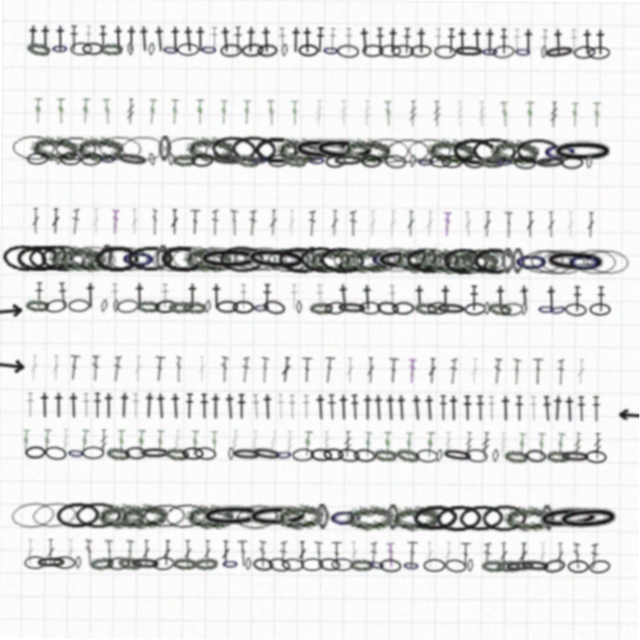chain: (537, 501, 603, 532), (243, 245, 309, 275), (557, 502, 623, 532), (542, 246, 608, 274), (290, 136, 355, 164), (311, 136, 376, 164), (201, 503, 266, 531), (247, 503, 312, 531), (549, 137, 614, 163), (196, 247, 261, 273), (373, 247, 438, 273), (416, 244, 466, 275), (276, 501, 326, 532), (119, 502, 169, 532), (346, 502, 396, 532), (391, 502, 441, 532), (1, 245, 48, 275), (528, 245, 575, 275), (11, 502, 58, 532), (32, 502, 79, 532), (235, 502, 281, 532), (29, 136, 78, 164), (425, 136, 474, 164), (489, 136, 538, 164), (57, 246, 106, 274), (427, 246, 476, 274), (98, 503, 147, 531), (242, 245, 288, 274), (299, 245, 345, 274), (164, 502, 209, 531), (185, 136, 233, 163), (183, 246, 231, 273), (341, 246, 389, 273), (393, 246, 441, 273), (505, 503, 553, 530), (210, 136, 256, 164), (40, 246, 86, 274), (70, 246, 116, 274), (193, 246, 239, 274), (231, 246, 277, 274), (319, 246, 365, 274), (405, 246, 451, 274), (442, 246, 488, 274), (584, 246, 630, 274), (437, 503, 483, 531), (96, 136, 141, 164), (451, 136, 496, 164), (105, 246, 150, 274), (150, 246, 195, 274), (277, 246, 322, 274), (331, 246, 376, 274), (520, 246, 565, 274), (57, 503, 102, 531), (143, 503, 188, 531), (414, 503, 459, 531), (460, 503, 505, 531), (74, 137, 122, 163), (275, 137, 323, 163), (341, 137, 389, 163), (48, 247, 96, 273), (307, 247, 355, 273), (450, 247, 498, 273), (187, 504, 235, 530), (230, 136, 276, 163), (471, 136, 516, 163), (171, 246, 216, 273), (219, 246, 264, 273), (373, 246, 418, 273), (460, 246, 505, 273), (571, 246, 616, 273), (483, 503, 528, 530), (10, 136, 54, 163), (160, 246, 204, 273), (354, 246, 398, 273), (119, 137, 164, 163), (363, 137, 408, 163), (384, 137, 429, 163), (127, 247, 172, 273), (540, 247, 585, 273), (77, 504, 122, 530), (473, 246, 516, 273), (52, 137, 96, 163), (163, 137, 207, 163), (253, 137, 297, 163), (406, 137, 450, 163), (515, 137, 559, 163), (16, 247, 60, 273), (28, 247, 72, 273), (94, 247, 138, 273), (265, 247, 309, 273), (368, 245, 406, 274), (329, 503, 366, 531), (541, 137, 577, 163), (120, 247, 156, 273), (513, 247, 549, 273), (566, 247, 602, 273), (541, 42, 574, 59), (251, 446, 284, 463), (442, 446, 475, 463), (115, 153, 148, 169), (210, 153, 242, 168), (521, 557, 553, 572), (533, 154, 565, 168), (336, 301, 368, 315), (435, 301, 467, 315), (232, 448, 264, 462), (560, 448, 592, 462), (131, 558, 163, 572), (506, 558, 538, 572), (396, 446, 421, 463), (451, 44, 483, 57), (331, 154, 363, 167), (140, 448, 172, 461), (37, 558, 69, 571), (262, 299, 286, 316), (544, 556, 568, 573), (98, 246, 113, 273), (154, 246, 169, 273), (542, 503, 557, 530), (24, 43, 49, 59), (91, 557, 116, 573), (44, 300, 68, 316), (269, 557, 293, 573), (281, 153, 306, 168), (487, 300, 512, 315), (119, 557, 144, 572), (195, 557, 220, 572), (45, 447, 68, 463), (338, 447, 361, 463), (446, 557, 469, 573), (317, 504, 331, 530), (239, 43, 262, 58), (490, 43, 513, 58), (571, 43, 594, 58), (25, 153, 48, 168), (116, 300, 139, 315), (154, 300, 177, 315), (376, 300, 399, 315), (195, 447, 218, 462), (466, 447, 489, 462), (154, 557, 177, 572), (320, 557, 343, 572), (590, 557, 613, 572), (157, 137, 170, 163), (305, 247, 318, 273), (501, 247, 514, 273), (511, 247, 524, 273), (388, 504, 401, 530), (171, 154, 195, 168), (234, 154, 258, 168), (168, 301, 192, 315), (182, 301, 206, 315), (309, 301, 333, 315), (107, 448, 131, 462), (166, 448, 190, 462), (505, 448, 529, 462), (526, 447, 548, 462), (79, 154, 102, 168), (266, 154, 289, 168), (383, 154, 406, 168), (512, 154, 535, 168), (324, 301, 347, 315), (564, 301, 587, 315), (354, 448, 377, 462), (548, 300, 568, 316), (97, 44, 121, 57), (478, 154, 502, 167), (25, 301, 49, 314), (136, 301, 160, 314), (414, 301, 438, 314), (374, 448, 398, 461), (547, 448, 571, 461), (174, 558, 198, 571), (351, 558, 375, 571), (483, 558, 507, 571), (498, 558, 522, 571), (218, 44, 240, 58), (335, 44, 357, 58), (432, 44, 454, 58), (586, 44, 608, 58), (190, 154, 212, 168), (462, 154, 484, 168), (560, 154, 582, 168), (464, 301, 486, 315), (501, 301, 523, 315), (293, 448, 315, 462), (311, 448, 333, 462), (417, 448, 439, 462), (586, 448, 608, 462), (109, 558, 131, 572), (254, 558, 276, 572), (284, 558, 306, 572), (381, 558, 403, 572), (255, 44, 276, 58), (324, 154, 345, 168), (68, 44, 90, 57), (80, 44, 102, 57), (175, 44, 197, 57), (360, 44, 382, 57), (377, 44, 399, 57), (390, 44, 412, 57), (408, 44, 430, 57), (58, 154, 80, 167), (428, 154, 450, 167), (440, 154, 462, 167), (68, 301, 90, 314), (216, 301, 238, 314), (232, 301, 254, 314), (359, 301, 381, 314), (392, 301, 414, 314), (427, 301, 449, 314), (589, 301, 611, 314), (83, 448, 105, 461), (126, 448, 148, 461), (183, 448, 205, 461), (26, 558, 48, 571), (55, 558, 77, 571), (303, 558, 325, 571), (333, 558, 355, 571), (425, 558, 447, 571), (569, 558, 591, 571), (249, 153, 268, 168), (369, 557, 388, 572), (296, 44, 317, 57), (360, 154, 381, 167), (26, 448, 47, 461), (324, 448, 345, 461), (252, 301, 271, 315), (160, 44, 178, 58), (416, 154, 434, 168), (68, 448, 86, 462), (276, 448, 294, 462), (404, 558, 422, 572), (49, 44, 67, 57), (198, 44, 216, 57), (320, 44, 338, 57), (479, 44, 497, 57), (512, 44, 530, 57), (98, 154, 116, 167), (307, 154, 325, 167), (494, 154, 512, 167), (537, 301, 555, 314), (223, 558, 241, 571), (436, 448, 444, 462), (147, 154, 155, 167), (100, 301, 108, 314), (125, 44, 132, 57), (146, 44, 153, 57), (279, 44, 286, 57), (408, 154, 415, 167), (204, 301, 211, 314), (493, 448, 500, 461), (539, 44, 545, 57), (54, 154, 60, 167), (167, 154, 173, 167), (585, 154, 591, 167), (113, 301, 119, 314), (296, 301, 302, 314), (484, 301, 490, 314), (521, 301, 527, 314), (229, 448, 235, 461), (77, 558, 83, 571), (247, 558, 253, 571), (469, 558, 475, 571)
double: (68, 356, 81, 383), (323, 357, 336, 383), (154, 357, 166, 383), (388, 357, 400, 383), (239, 541, 251, 567), (408, 541, 420, 567), (189, 210, 200, 236), (281, 357, 292, 383), (302, 357, 313, 383), (533, 357, 544, 383), (333, 541, 344, 567), (462, 541, 473, 567), (387, 210, 397, 236), (424, 210, 434, 236), (260, 357, 270, 383), (470, 357, 480, 383), (493, 357, 503, 383), (512, 357, 522, 383), (126, 541, 136, 567), (520, 541, 530, 567), (110, 210, 119, 236), (229, 210, 238, 236), (268, 210, 277, 236), (442, 210, 451, 236), (463, 210, 472, 236), (482, 210, 491, 236), (503, 210, 512, 236), (525, 210, 534, 236), (546, 210, 555, 236), (30, 357, 39, 383), (113, 357, 122, 383), (134, 357, 143, 383), (220, 357, 229, 383), (346, 357, 355, 383), (408, 357, 417, 383), (428, 357, 437, 383), (577, 357, 586, 383), (48, 541, 57, 567), (106, 541, 115, 567), (164, 541, 173, 567), (185, 541, 194, 567), (223, 541, 232, 567), (316, 541, 325, 567), (351, 541, 360, 567), (388, 541, 397, 567), (427, 541, 436, 567), (445, 541, 454, 567), (501, 541, 510, 567), (31, 210, 39, 236), (51, 210, 59, 236), (71, 210, 79, 236), (91, 210, 99, 236), (130, 210, 138, 236), (170, 210, 178, 236), (248, 210, 256, 236), (287, 210, 295, 236), (330, 210, 338, 236), (368, 210, 376, 236), (406, 210, 414, 236), (566, 210, 574, 236), (586, 210, 594, 236), (52, 357, 60, 383), (92, 357, 100, 383), (198, 357, 206, 383), (242, 357, 250, 383), (367, 357, 375, 383), (450, 357, 458, 383), (28, 541, 36, 567), (68, 541, 76, 567), (144, 541, 152, 567), (205, 541, 213, 567), (260, 541, 268, 567), (281, 541, 289, 567), (300, 541, 308, 567), (485, 541, 493, 567), (540, 541, 548, 567), (558, 541, 566, 567), (592, 541, 600, 567), (211, 210, 218, 236), (308, 210, 315, 236), (349, 210, 356, 236), (558, 357, 565, 383), (87, 541, 94, 567), (372, 541, 379, 567), (575, 541, 582, 567), (151, 210, 157, 236), (176, 357, 182, 383)
half_double: (550, 393, 567, 420), (336, 283, 352, 310), (517, 283, 533, 310), (117, 393, 133, 420), (142, 393, 158, 420), (23, 27, 39, 53), (150, 27, 166, 53), (179, 27, 195, 53), (216, 27, 232, 53), (241, 27, 257, 53), (286, 27, 302, 53), (355, 27, 371, 53), (383, 27, 399, 53), (480, 27, 496, 53), (154, 394, 170, 420), (223, 394, 239, 420), (410, 394, 426, 420), (36, 27, 51, 53), (51, 27, 66, 53), (109, 27, 124, 53), (122, 27, 137, 53), (135, 27, 150, 53), (166, 27, 181, 53), (191, 27, 206, 53), (257, 27, 272, 53), (298, 27, 313, 53), (412, 27, 427, 53), (453, 27, 468, 53), (468, 27, 483, 53), (519, 27, 534, 53), (549, 27, 564, 53), (578, 27, 593, 53), (591, 27, 606, 53), (83, 284, 98, 310), (132, 284, 147, 310), (185, 284, 200, 310), (209, 284, 224, 310), (360, 284, 375, 310), (412, 284, 427, 310), (438, 284, 453, 310), (493, 284, 508, 310), (544, 284, 559, 310), (38, 394, 53, 420), (52, 394, 67, 420), (67, 394, 82, 420), (102, 394, 117, 420), (169, 394, 184, 420), (209, 394, 224, 420), (261, 394, 276, 420), (314, 394, 329, 420), (337, 394, 352, 420), (361, 394, 376, 420), (372, 394, 387, 420), (384, 394, 399, 420), (395, 394, 410, 420), (423, 394, 438, 420), (447, 394, 462, 420), (499, 394, 514, 420), (563, 394, 578, 420), (57, 284, 69, 310), (542, 394, 554, 420), (314, 284, 325, 310), (251, 394, 262, 420), (276, 394, 287, 420), (327, 394, 338, 420), (350, 394, 361, 420), (67, 27, 77, 53), (81, 27, 91, 53), (96, 27, 106, 53), (207, 27, 217, 53), (231, 27, 241, 53), (275, 27, 285, 53), (313, 27, 323, 53), (342, 27, 352, 53), (373, 27, 383, 53), (400, 27, 410, 53), (431, 27, 441, 53), (444, 27, 454, 53), (497, 27, 507, 53), (510, 27, 520, 53), (538, 27, 548, 53), (567, 27, 577, 53), (34, 284, 44, 310), (110, 284, 120, 310), (160, 284, 170, 310), (238, 284, 248, 310), (262, 284, 272, 310), (289, 284, 299, 310), (387, 284, 397, 310), (469, 284, 479, 310), (572, 284, 582, 310), (596, 284, 606, 310), (26, 394, 36, 420), (82, 394, 92, 420), (93, 394, 103, 420), (131, 394, 141, 420), (185, 394, 195, 420), (200, 394, 210, 420), (237, 394, 247, 420), (288, 394, 298, 420), (302, 394, 312, 420), (439, 394, 449, 420), (463, 394, 473, 420), (476, 394, 486, 420), (487, 394, 497, 420), (515, 394, 525, 420), (529, 394, 539, 420), (577, 394, 587, 420), (592, 394, 602, 420), (326, 27, 335, 53)
noise: (0, 360, 27, 376), (0, 306, 24, 320), (617, 407, 640, 418)
treble: (498, 100, 509, 126), (80, 431, 91, 457), (172, 431, 183, 457), (230, 431, 241, 457), (268, 431, 279, 457), (303, 431, 314, 457), (481, 431, 492, 457), (556, 431, 567, 457), (79, 100, 89, 126), (101, 100, 111, 126), (146, 100, 156, 126), (265, 100, 275, 126), (382, 100, 392, 126), (22, 431, 32, 457), (43, 431, 53, 457), (137, 431, 147, 457), (156, 431, 166, 457), (191, 431, 201, 457), (250, 431, 260, 457), (364, 431, 374, 457), (405, 431, 415, 457), (426, 431, 436, 457), (444, 431, 454, 457), (518, 431, 528, 457), (32, 100, 41, 126), (55, 100, 64, 126), (169, 100, 178, 126), (194, 100, 203, 126), (218, 100, 227, 126), (241, 100, 250, 126), (289, 100, 298, 126), (313, 100, 322, 126), (338, 100, 347, 126), (361, 100, 370, 126), (407, 100, 416, 126), (431, 100, 440, 126), (476, 100, 485, 126), (524, 100, 533, 126), (548, 100, 557, 126), (569, 100, 578, 126), (591, 100, 600, 126), (100, 431, 109, 457), (118, 431, 127, 457), (211, 431, 220, 457), (286, 431, 295, 457), (323, 431, 332, 457), (344, 431, 353, 457), (384, 431, 393, 457), (465, 431, 474, 457), (538, 431, 547, 457), (574, 431, 583, 457), (594, 431, 603, 457), (125, 100, 133, 126), (454, 100, 462, 126), (62, 431, 70, 457), (500, 431, 508, 457)
